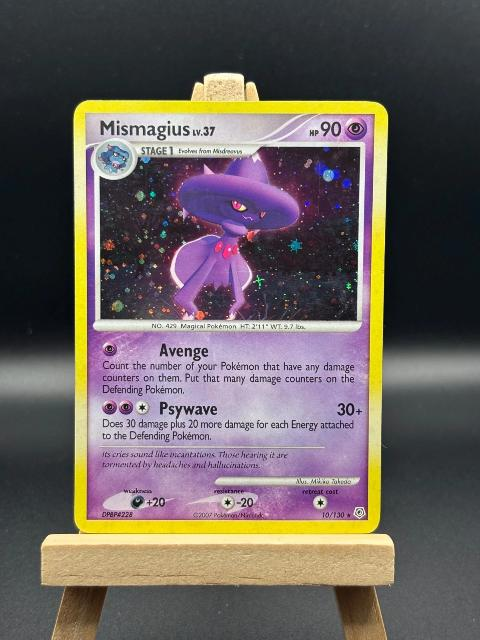Card: (70, 97, 392, 538)
Name: (95, 116, 193, 144)
